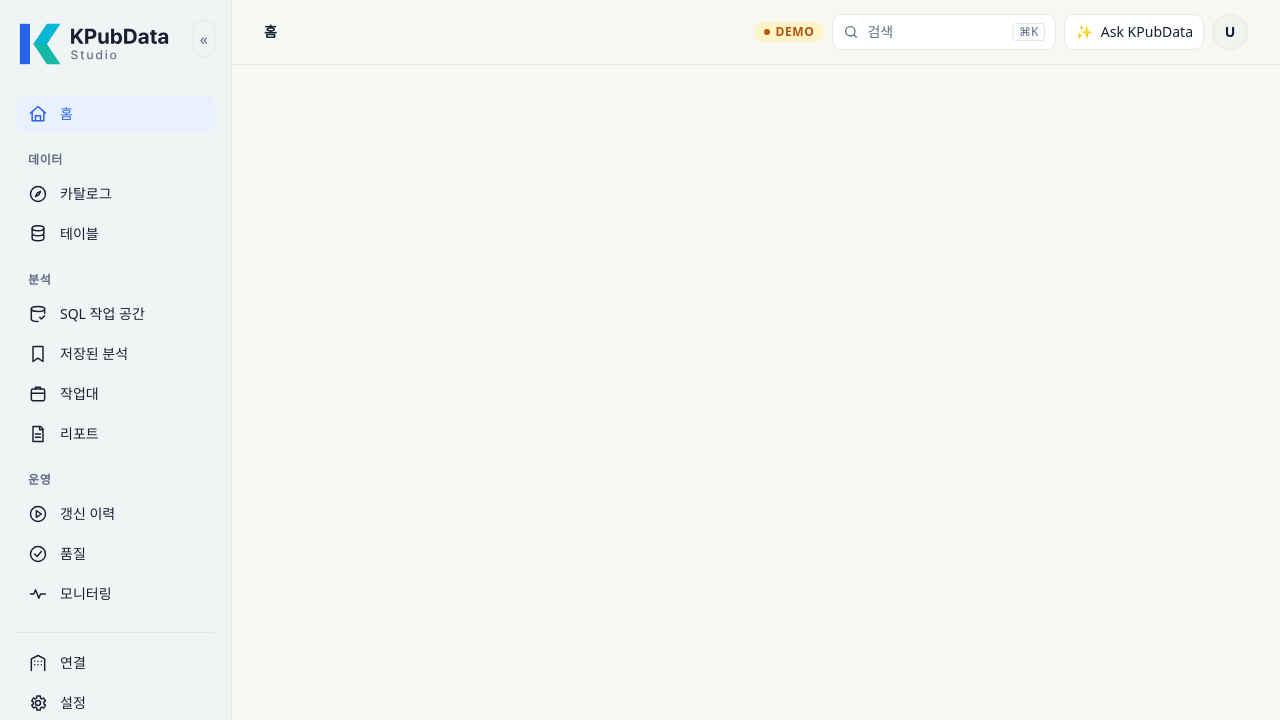
it: account menu (#523) › links to help and signs the person out
The image size is (1280, 720).
Click the button named "user@example.com 계정 메뉴". click: (1230, 32)
box: 1212,14 -> 1248,50
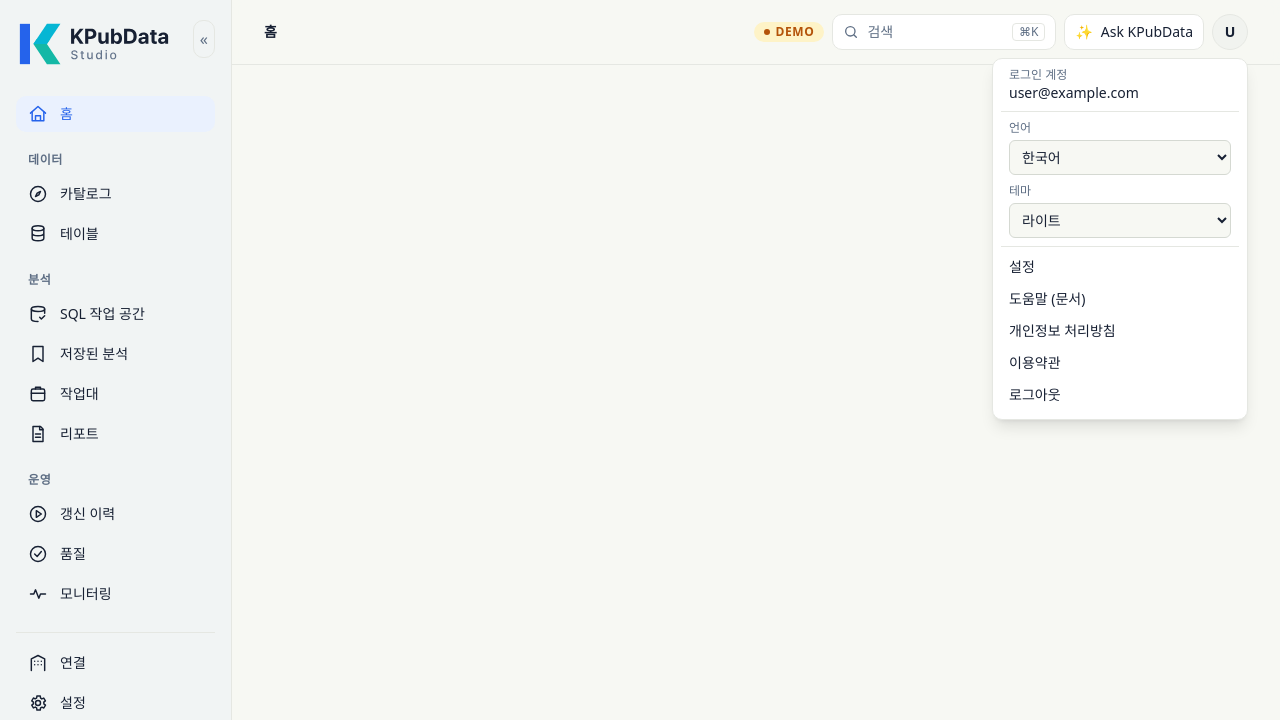
Expected: the text "user@example.com" is shown, 1009,83 -> 1139,102
Click the button "로그아웃". click: (1120, 395)
box: 1001,379 -> 1239,411
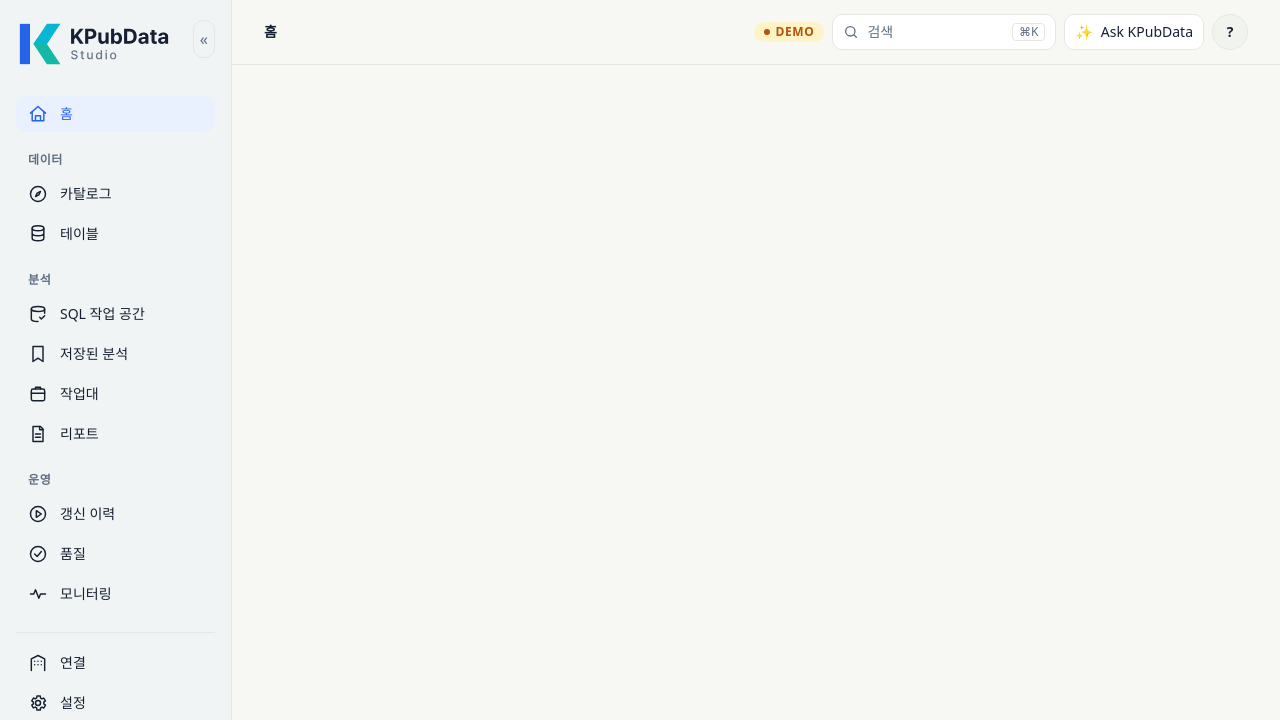
Expected: the text "계정" is gone
